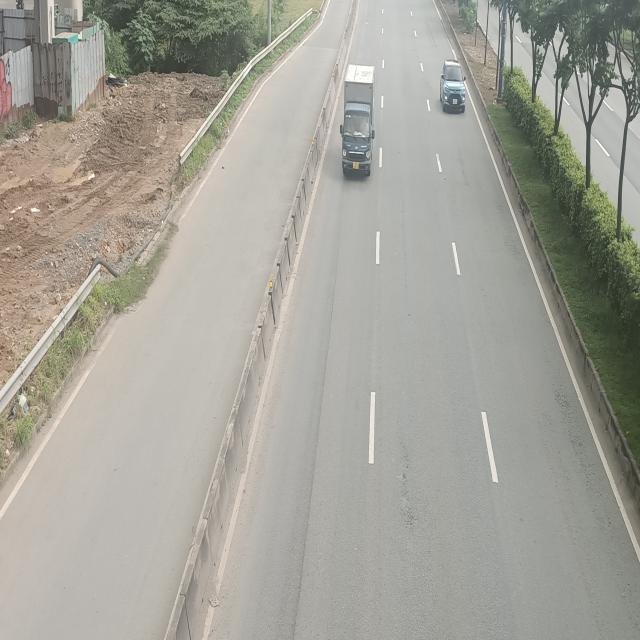car: (440, 62, 468, 114)
truck: (340, 66, 375, 181)
